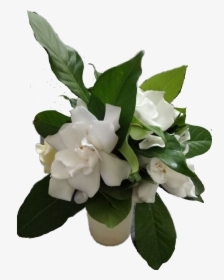jasmine: (22, 55, 206, 214)
